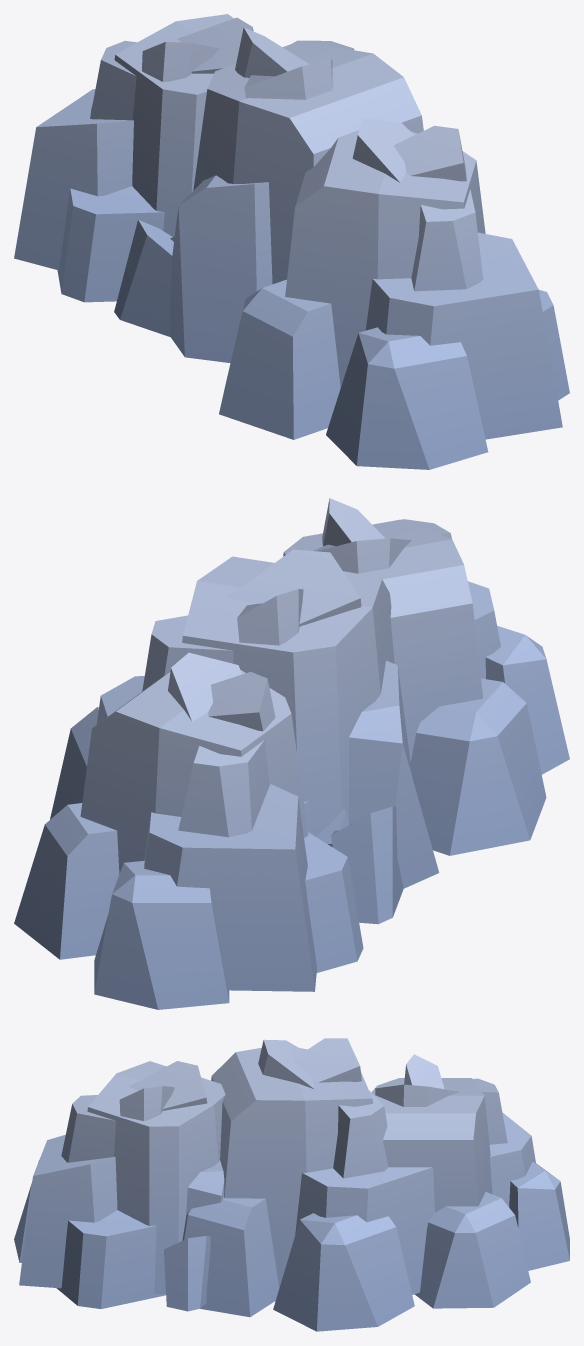
File: mdl_breakableRock.fbx
3 renders of one model, top to bottom at view 1: azimuth 30°, elevation 25°; view 2: azimuth 150°, elevation 25°; view 3: azimuth 270°, elevation 25°, orthographic. The views are drawn at different scales.
Visible parts, largest first — view 1: mdl_breakableRock.003, mdl_breakableRock.001, mdl_breakableRock.002; view 2: mdl_breakableRock.002, mdl_breakableRock.001, mdl_breakableRock.003; view 3: mdl_breakableRock.001, mdl_breakableRock.003, mdl_breakableRock.002.
Part boxes in pixels (x1,y1,x2,y2): mdl_breakableRock.003: (219, 118, 569, 469); mdl_breakableRock.001: (114, 27, 423, 362); mdl_breakableRock.002: (14, 14, 253, 302); mdl_breakableRock.002: (14, 652, 363, 1009); mdl_breakableRock.001: (50, 549, 439, 924); mdl_breakableRock.003: (283, 498, 569, 855); mdl_breakableRock.001: (182, 1038, 434, 1331); mdl_breakableRock.003: (14, 1061, 225, 1311); mdl_breakableRock.002: (371, 1054, 569, 1308).
Bounding box in the file's own units: 12.59 × 9.63 × 22.75.
